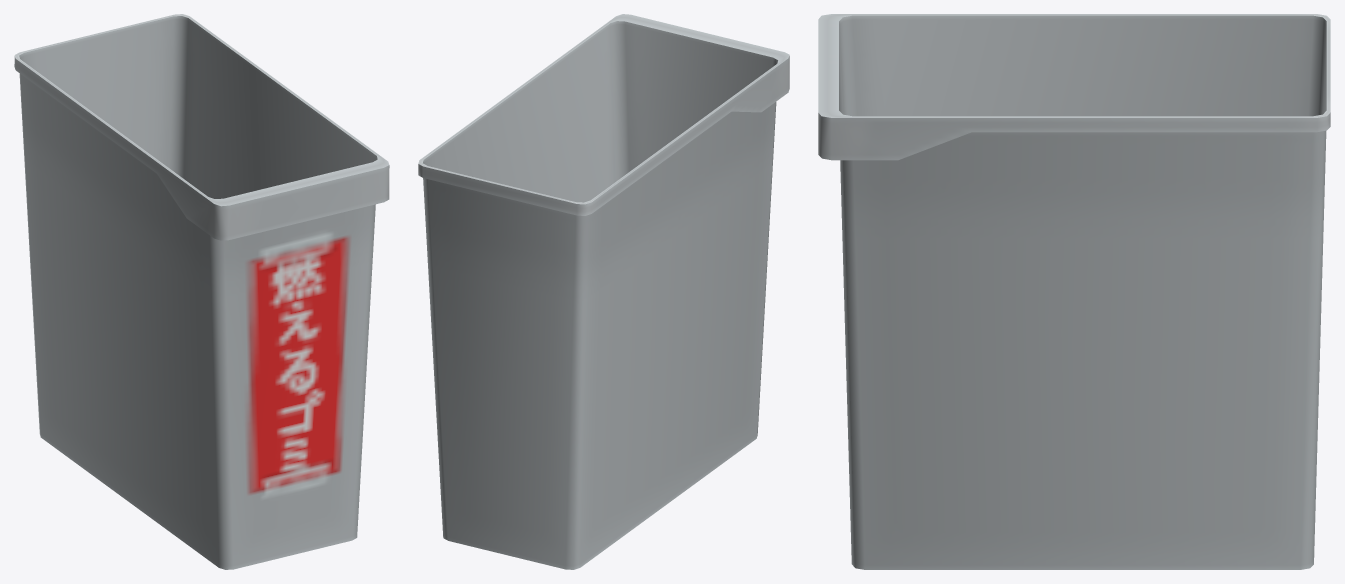
File: Garbage_can_01_01.fbx
3 views of the same model, side by side, from view 1: azimuth 30°, elevation 25°; view 2: azimuth 150°, elevation 25°; view 3: azimuth 270°, elevation 25° (orthographic). The views are drawn at different scales.
Parts seen in each view (by area): view 1: garbage_can_01_01; view 2: garbage_can_01_01; view 3: garbage_can_01_01.
Part boxes in pixels (x1,y1,x2,y2): garbage_can_01_01: [14, 14, 389, 569]; garbage_can_01_01: [418, 14, 789, 569]; garbage_can_01_01: [818, 14, 1330, 569].
Bounding box in the file's own units: 24.07 × 50 × 50.16.
